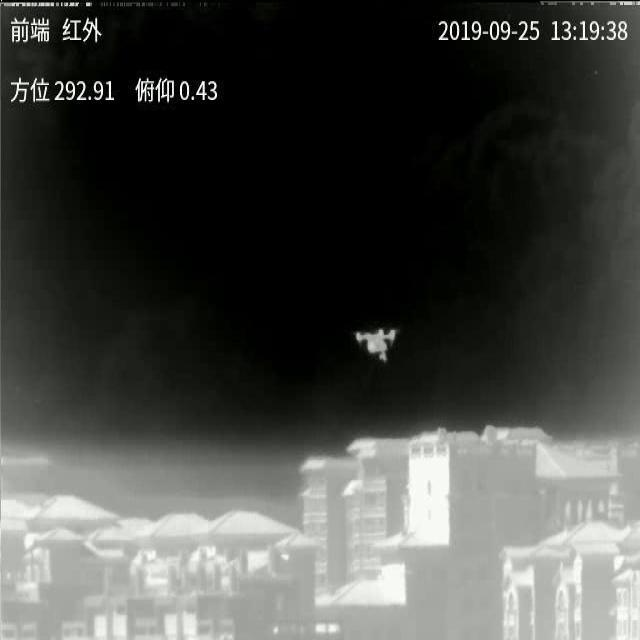drone: (355, 329, 397, 361)
